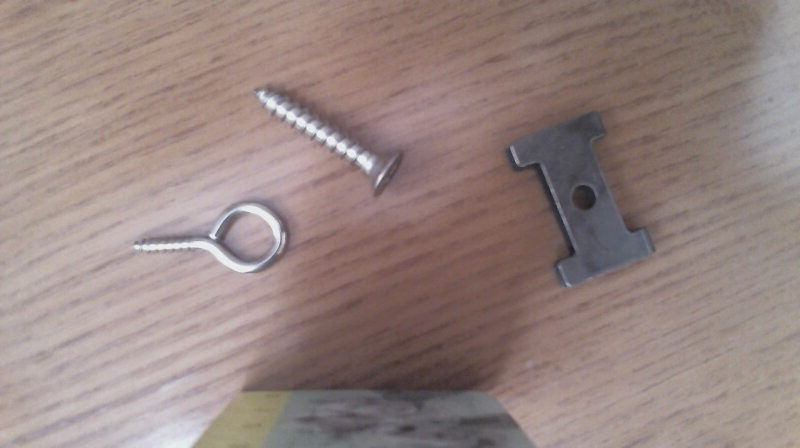O001: (126, 199, 290, 278)
O002: (503, 106, 660, 295)
S001: (244, 81, 409, 200)
